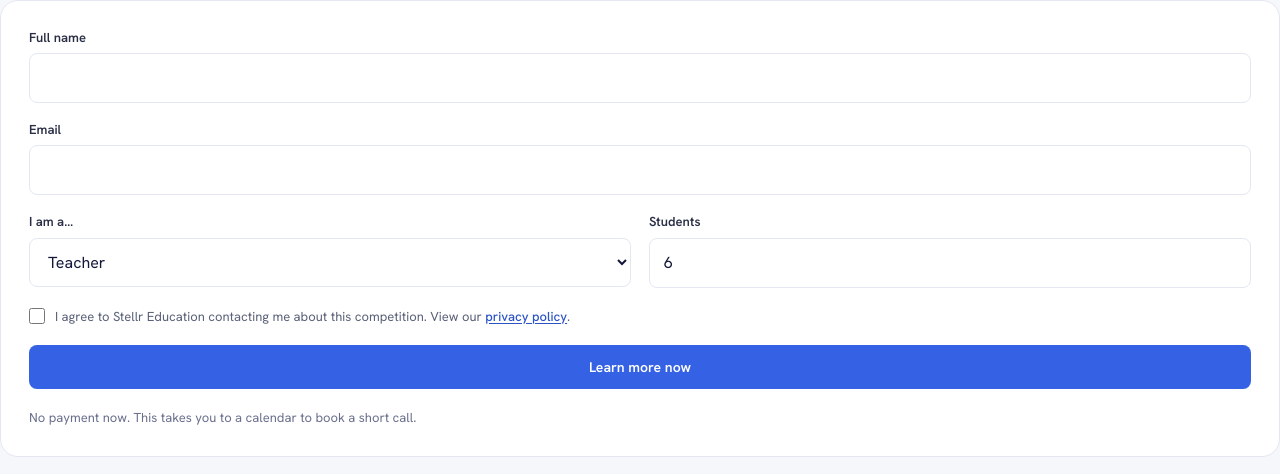
Test: LeadForm booking hand-off › does NOT redirect when HubSpot rejected the write
Type "Alex Whitfield" into the field labelled "Full name". click: coordinates (640, 78)
box: x1=29 y1=53 x2=1251 y2=103
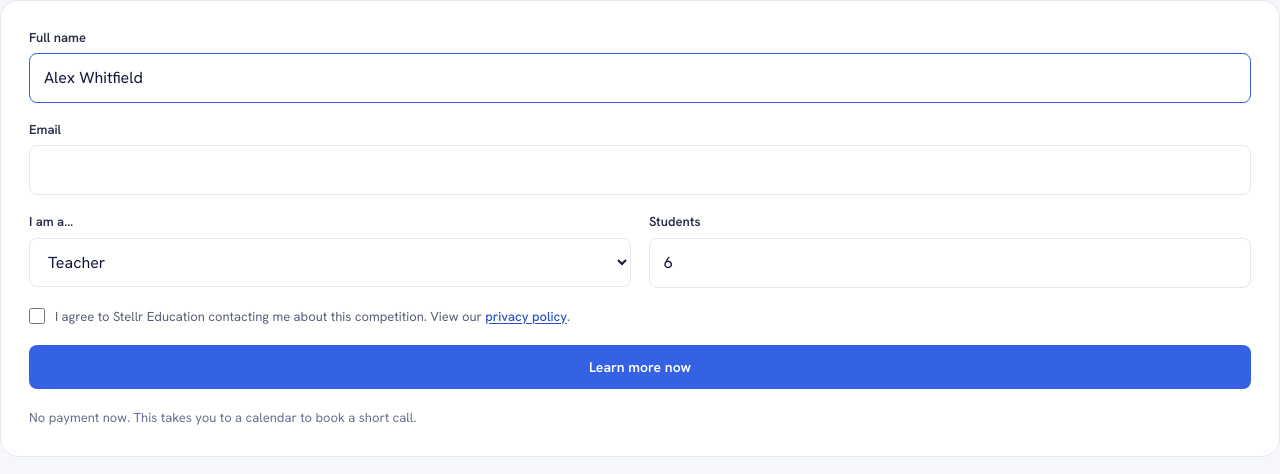
Type "alex@example.org" into the field labelled "Email". click: coordinates (640, 170)
box: x1=29 y1=145 x2=1251 y2=195
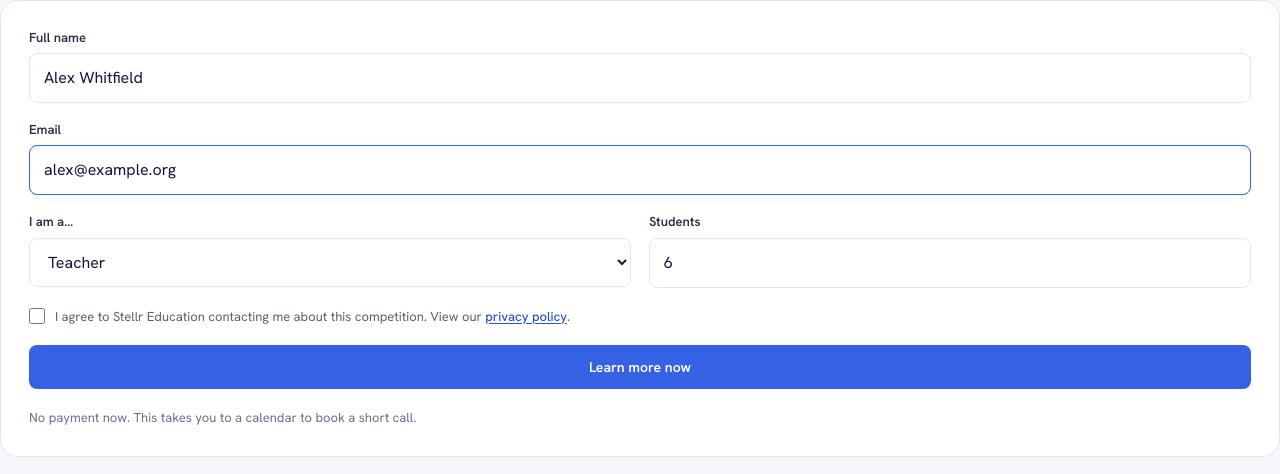
Click the checkbox labelled "I agree to Stellr Education". click: coordinates (37, 316)
box: x1=29 y1=308 x2=45 y2=324
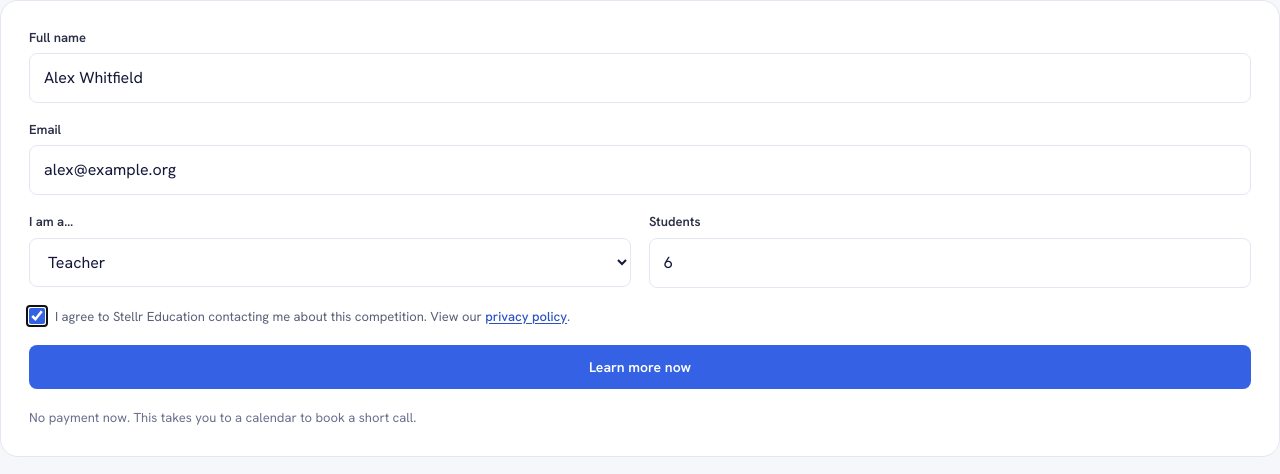
Click the button "Learn more now". click: coordinates (640, 367)
box: x1=29 y1=345 x2=1251 y2=389
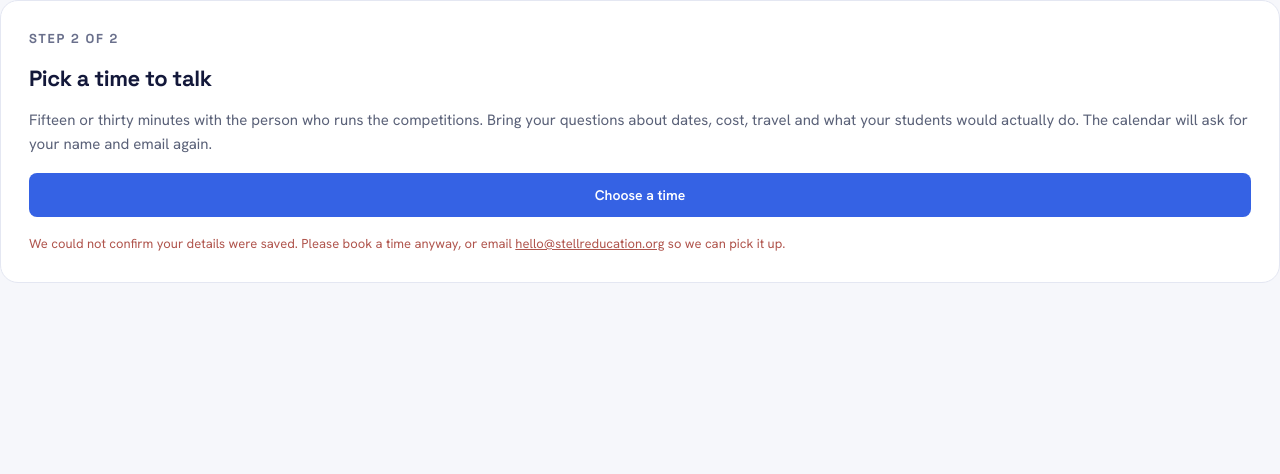
Expected: the heading "Pick a time to talk" is shown, x1=29 y1=64 x2=212 y2=92
Expected: the text "could not confirm your details were saved" is shown, x1=29 y1=235 x2=512 y2=252
